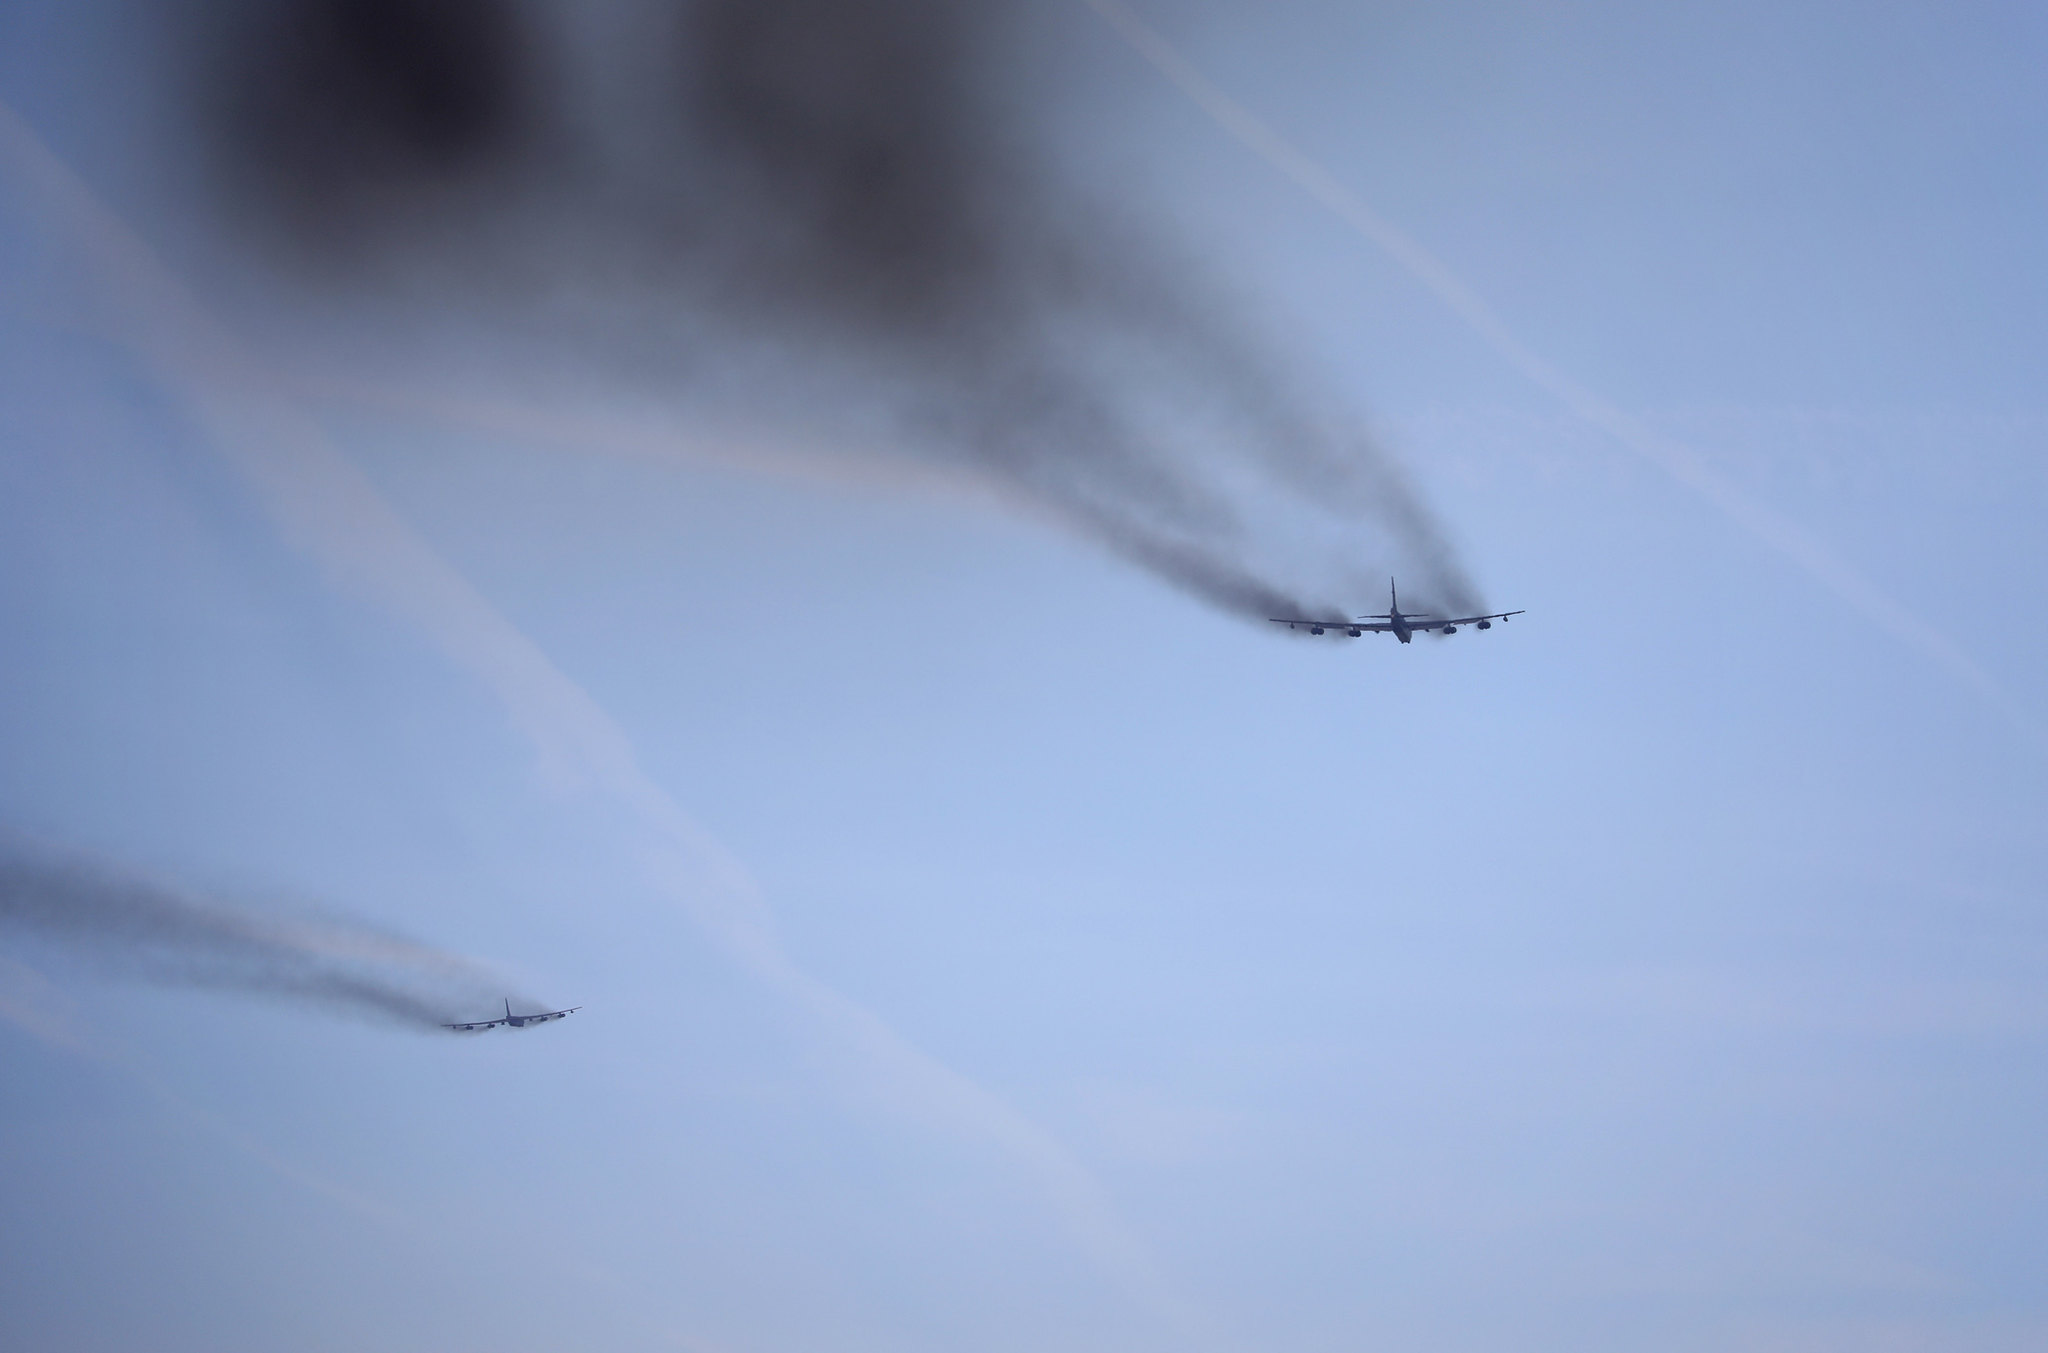B52: (1268, 575, 1526, 643), (441, 997, 583, 1030)
